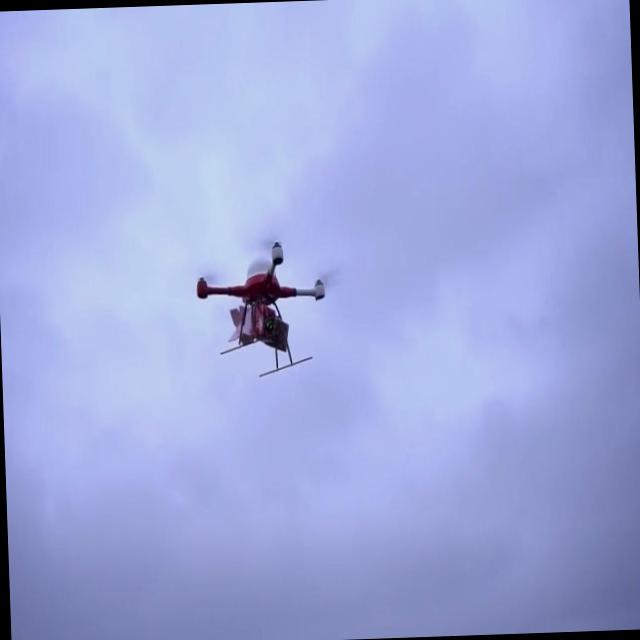drone: (194, 238, 330, 382)
